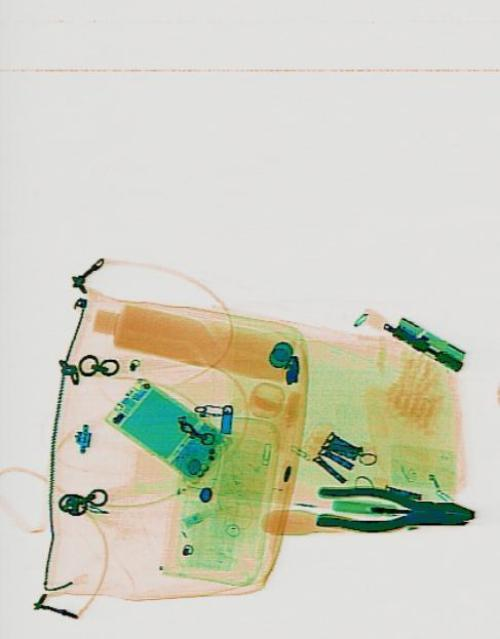Pliers: (313, 481, 472, 538)
